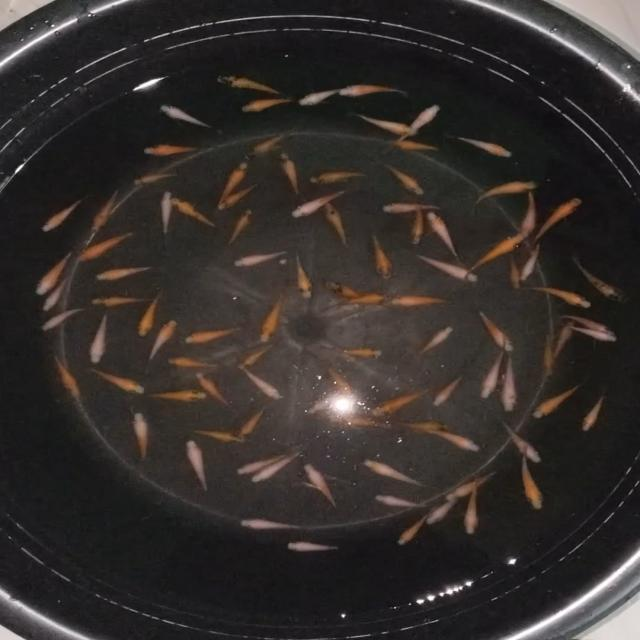nila: (570, 258, 636, 308), (384, 101, 444, 153), (409, 247, 478, 286), (423, 206, 466, 268), (466, 230, 526, 273), (534, 194, 586, 242), (326, 277, 394, 313), (529, 379, 588, 419), (346, 109, 418, 141), (250, 446, 306, 484), (362, 457, 430, 488), (35, 248, 77, 297), (158, 102, 226, 132), (516, 446, 546, 514), (520, 283, 594, 309), (370, 386, 430, 418), (246, 126, 299, 162), (378, 160, 428, 198), (290, 188, 348, 220), (40, 194, 88, 232), (469, 180, 534, 208), (501, 420, 542, 464), (444, 470, 500, 502), (194, 370, 238, 410), (478, 308, 516, 354), (76, 232, 134, 262), (211, 72, 283, 96), (172, 196, 220, 232), (238, 364, 284, 401), (302, 462, 336, 512), (319, 198, 352, 248), (182, 438, 212, 493), (559, 311, 619, 338), (453, 134, 515, 160), (213, 160, 246, 208), (216, 178, 262, 212), (90, 184, 122, 232), (146, 318, 180, 363), (234, 404, 270, 446), (238, 93, 296, 119), (88, 368, 146, 394), (256, 294, 286, 344), (422, 428, 483, 452), (51, 352, 81, 400), (96, 261, 160, 283), (370, 229, 396, 283), (289, 250, 316, 302), (480, 346, 506, 400), (88, 312, 114, 366), (330, 288, 392, 310), (580, 384, 608, 432), (183, 325, 244, 347), (462, 478, 483, 541), (521, 237, 551, 281), (39, 306, 86, 334), (412, 326, 454, 357), (234, 453, 288, 477), (42, 273, 75, 312), (385, 417, 456, 435), (298, 83, 346, 109), (237, 515, 306, 533), (386, 138, 448, 158), (228, 248, 290, 268), (308, 169, 376, 187), (396, 512, 432, 546), (280, 151, 306, 198), (337, 84, 413, 100), (130, 409, 152, 464), (370, 492, 436, 510), (387, 294, 466, 309), (236, 342, 275, 372), (139, 142, 212, 158), (223, 208, 252, 248), (424, 493, 457, 528), (139, 292, 164, 338), (194, 424, 246, 446), (429, 374, 464, 406), (552, 316, 577, 360), (408, 196, 427, 252), (325, 366, 353, 402), (338, 416, 394, 434), (501, 353, 518, 412), (520, 188, 540, 238), (141, 388, 211, 402), (294, 392, 338, 414), (378, 202, 447, 216), (542, 329, 560, 382), (502, 246, 522, 293), (572, 324, 619, 344), (90, 292, 154, 306), (130, 170, 178, 188), (163, 354, 220, 369), (335, 347, 387, 362), (160, 190, 173, 244), (286, 540, 342, 552)
